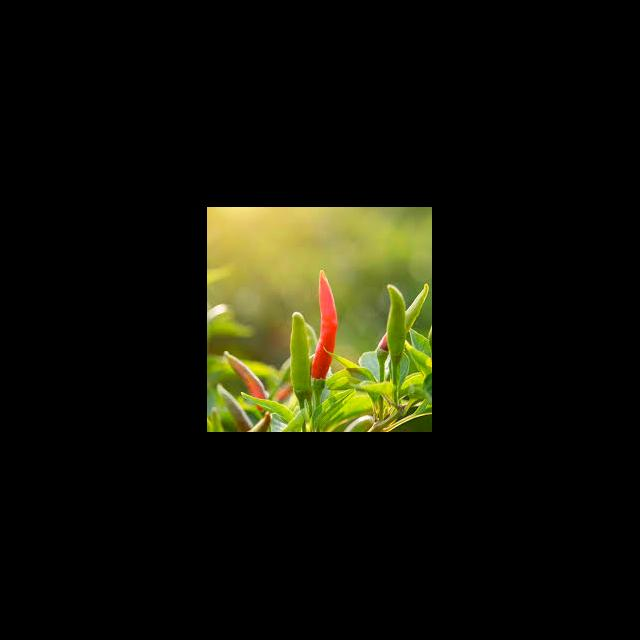chili_pepper: (312, 270, 338, 380), (290, 312, 312, 404), (226, 354, 264, 400), (386, 286, 406, 368), (406, 284, 430, 330)
